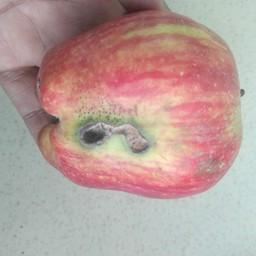Bad_apple: (36, 19, 241, 198)
